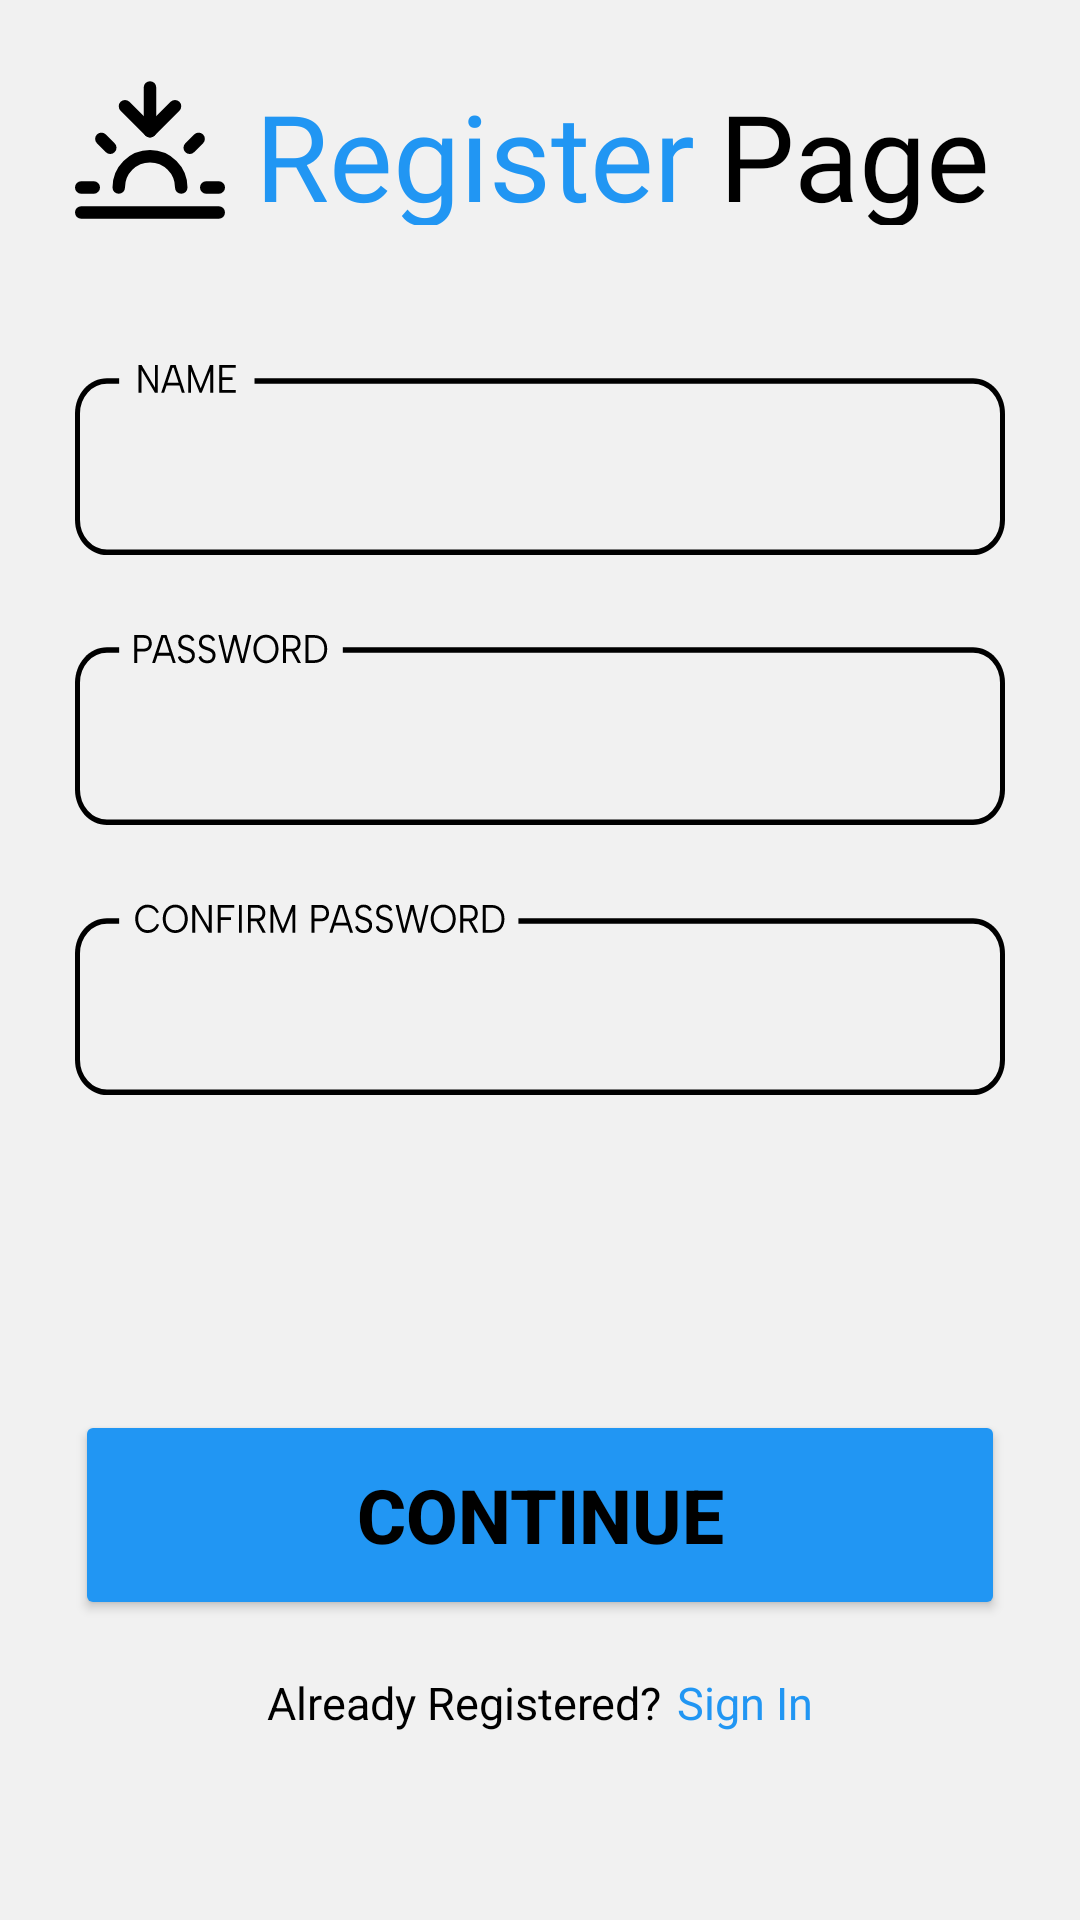

Icon bounding boxes for this 1080×1920 phone screenshot, format Rect(x1, y1, x2, y2):
theme: Rect(75, 81, 225, 219)
